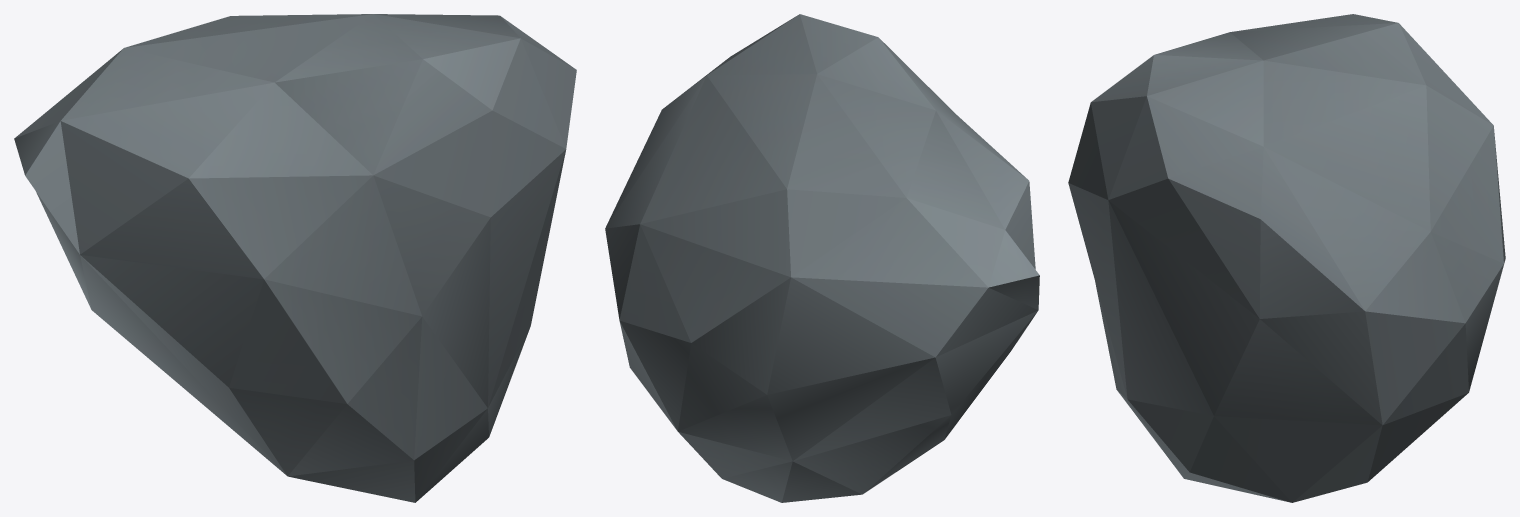
File: kf_rock_3_a.fbx
3 renders of one model, left to right at view 1: azimuth 30°, elevation 25°; view 2: azimuth 150°, elevation 25°; view 3: azimuth 270°, elevation 25°, orthographic. The views are drawn at different scales.
Parts seen in each view (by area): view 1: kf_rock_3_a; view 2: kf_rock_3_a; view 3: kf_rock_3_a.
Part boxes in pixels (x1,y1,x2,y2): kf_rock_3_a: (14,14,576,502); kf_rock_3_a: (605,14,1039,502); kf_rock_3_a: (1068,14,1505,502).
Size of the model in its own units: 2.3 by 2.06 by 1.94.
1 material, 1 textured.
